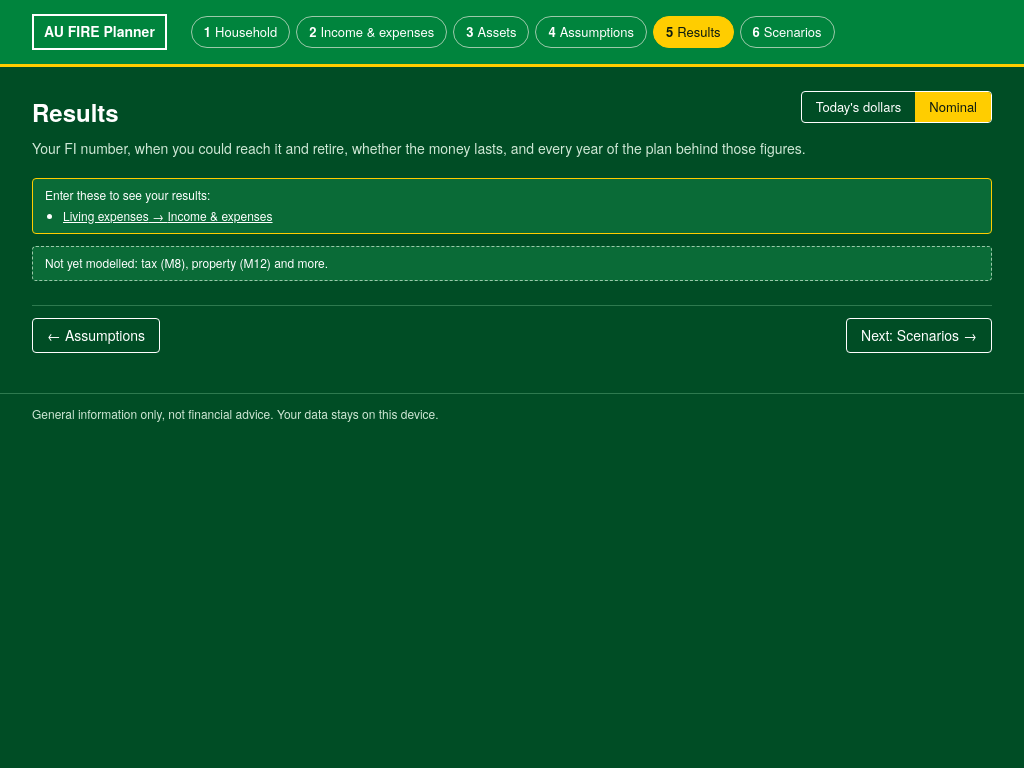
Test: App › goes straight to Household from the logo when the plan is blank
Check: the heading "Results" is shown, box [32,96,119,130]
Click the button with aria-label "AU FIRE Planner, start over" at (99, 32), box [32,14,167,50]
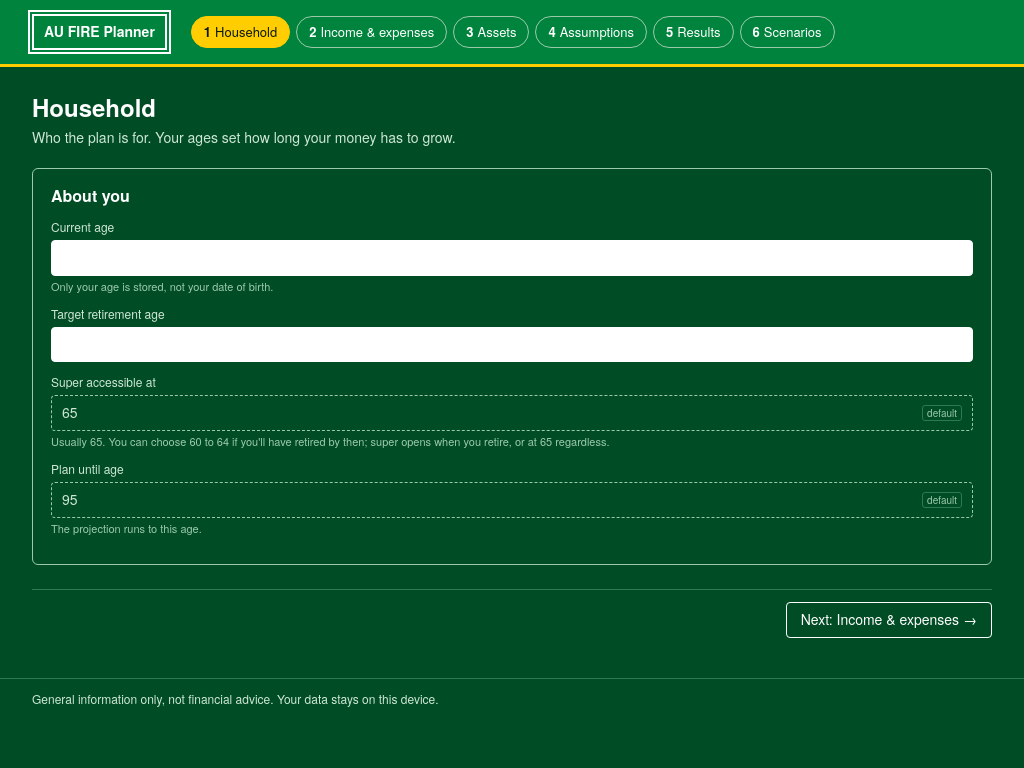
Check: the heading "Household" is shown, box [32,90,156,124]
